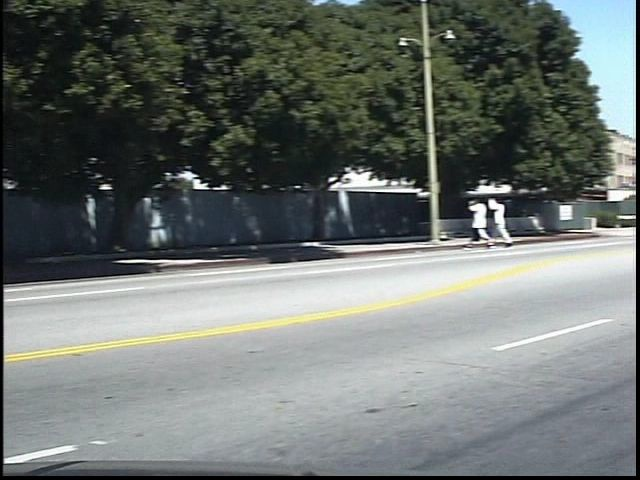person: (481, 191, 506, 253), (503, 193, 529, 252)
